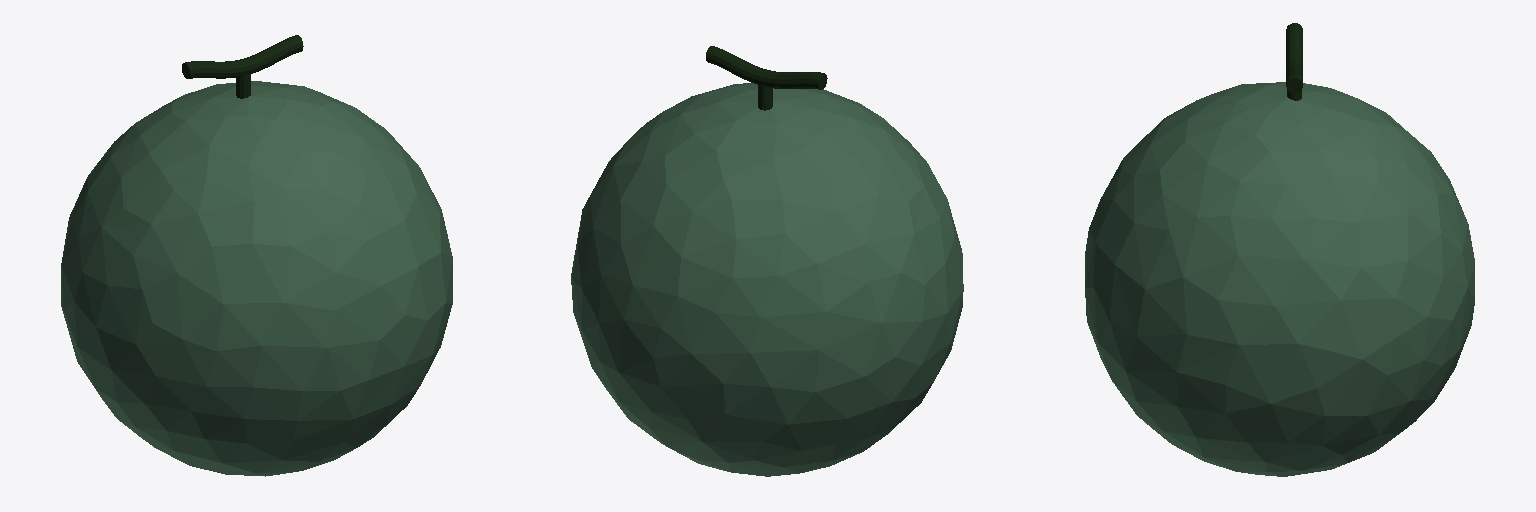
File: Melon.obj
3 renders of one model, left to right at view 1: azimuth 30°, elevation 25°; view 2: azimuth 150°, elevation 25°; view 3: azimuth 270°, elevation 25°, orthographic.
Parts seen in each view (by area): view 1: Melon, NURBSパス.001; view 2: Melon, NURBSパス.001; view 3: Melon, NURBSパス.001.
Part boxes in pixels (x1,y1,x2,y2): Melon: (61, 81, 452, 476); NURBSパス.001: (182, 35, 303, 98); Melon: (571, 83, 963, 476); NURBSパス.001: (706, 46, 827, 110); Melon: (1085, 82, 1474, 476); NURBSパス.001: (1286, 23, 1302, 100).
Size of the model in its own units: 0.8014 by 0.9139 by 0.7987.